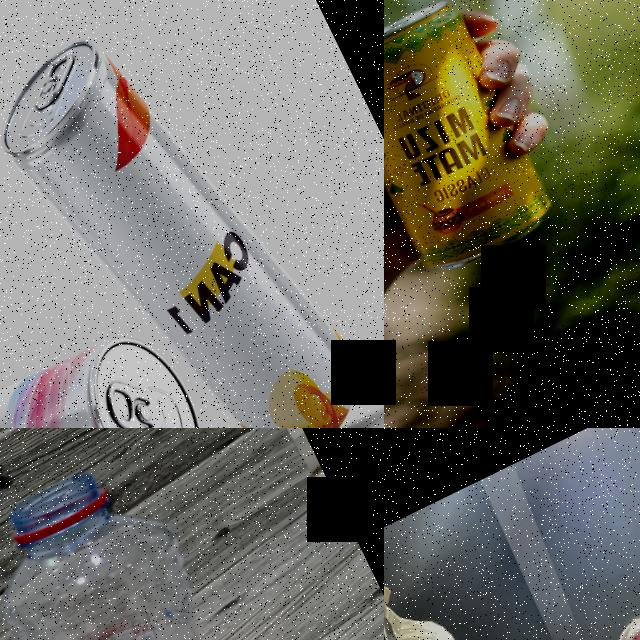bottle: (0, 446, 306, 640)
can: (0, 0, 384, 428), (384, 0, 563, 284), (0, 312, 228, 428)
